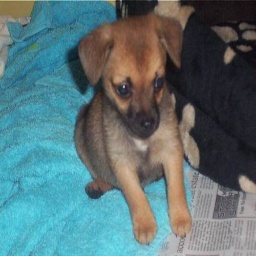dog: (53, 21, 203, 242)
